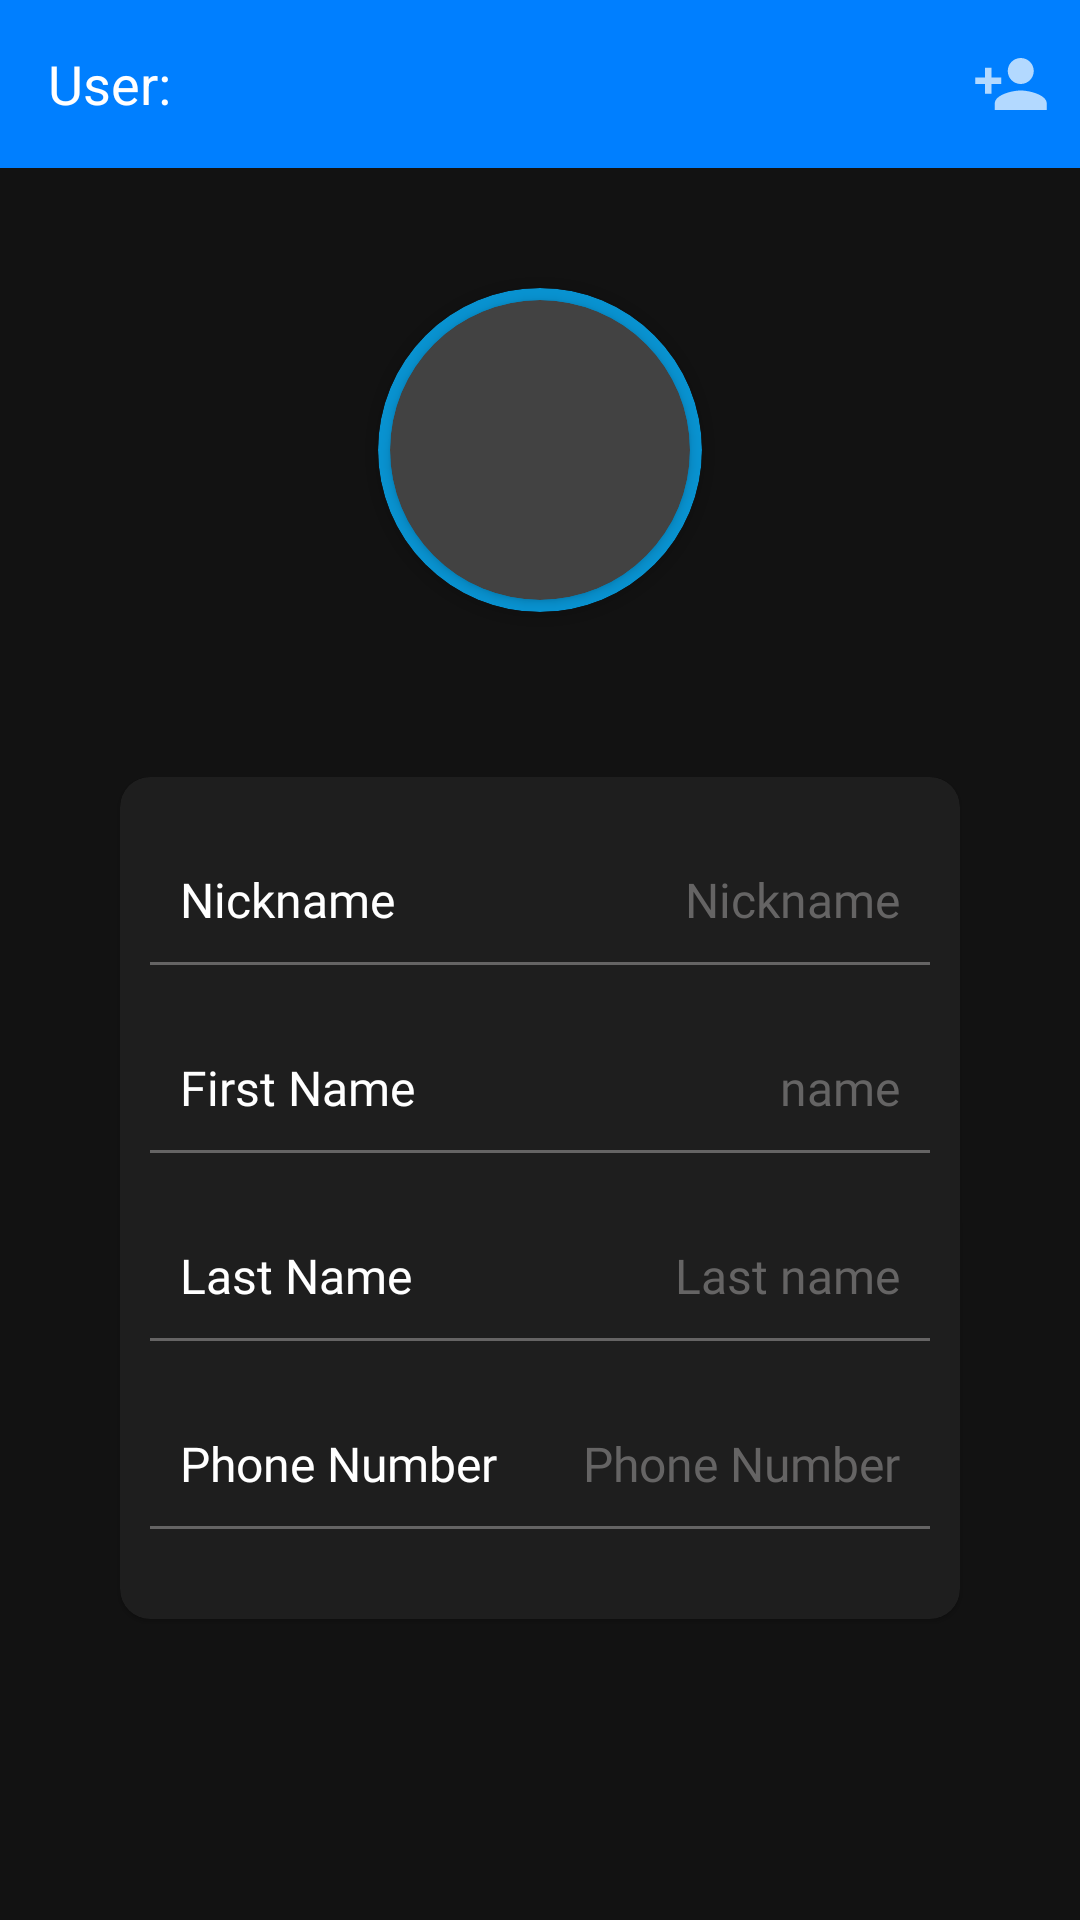

Icons on this 1080 × 1920 Android screen, each with the point to tap as (x,y):
person add: (1011,84)
